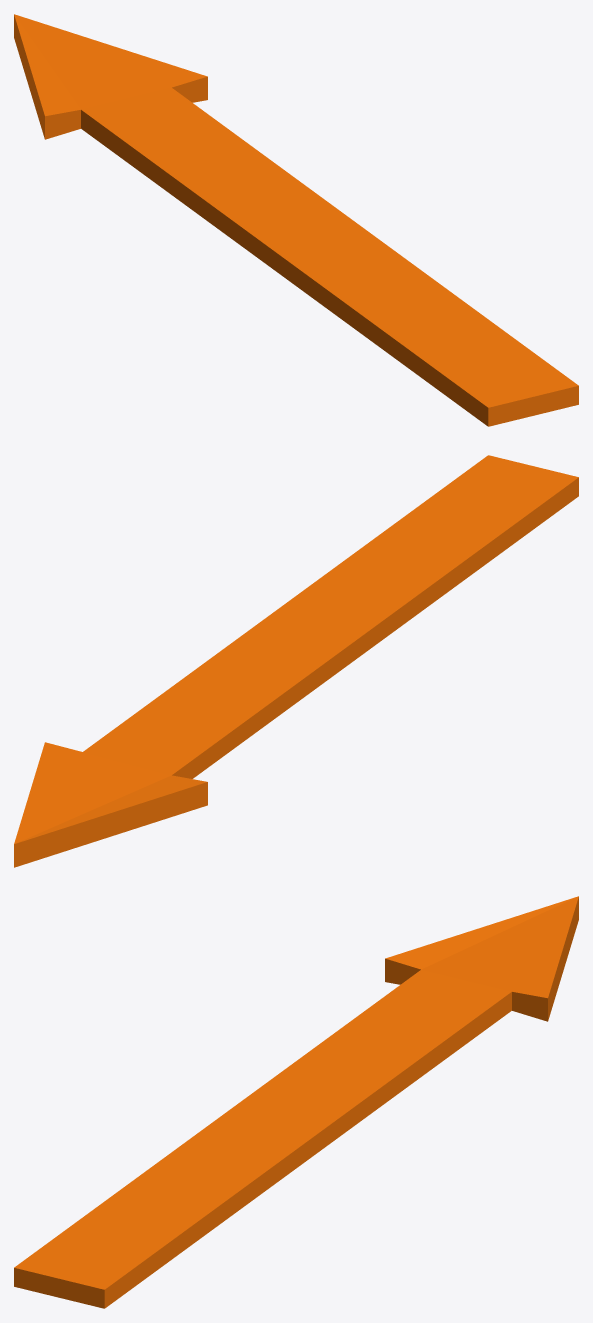
Rendered from Arrow.fbx.
3 renders of one model, top to bottom at view 1: azimuth 30°, elevation 25°; view 2: azimuth 150°, elevation 25°; view 3: azimuth 330°, elevation 25°, orthographic.
Visible parts, largest first — view 1: Arrow; view 2: Arrow; view 3: Arrow.
Boxes of the visible parts, x1,y1,x2,y2 form: Arrow: (14,14,578,426); Arrow: (14,455,578,867); Arrow: (14,896,578,1308).
Size of the model in its own units: 14.81 by 2.04 by 81.88.
